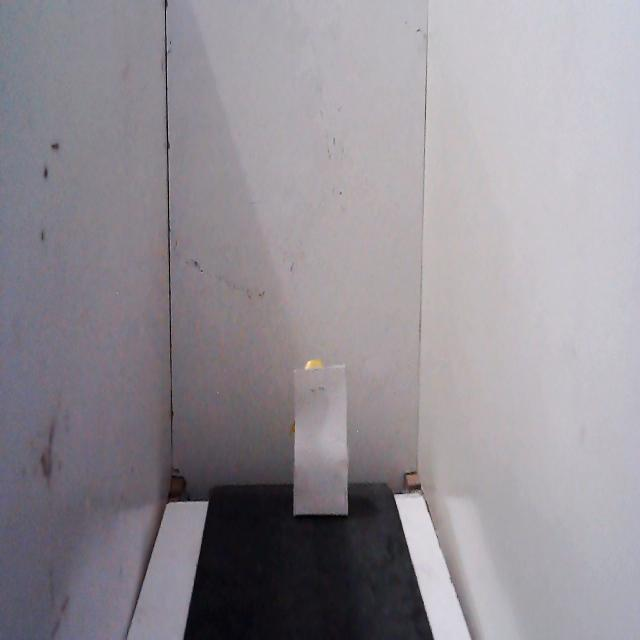papel: (288, 351, 353, 525)
